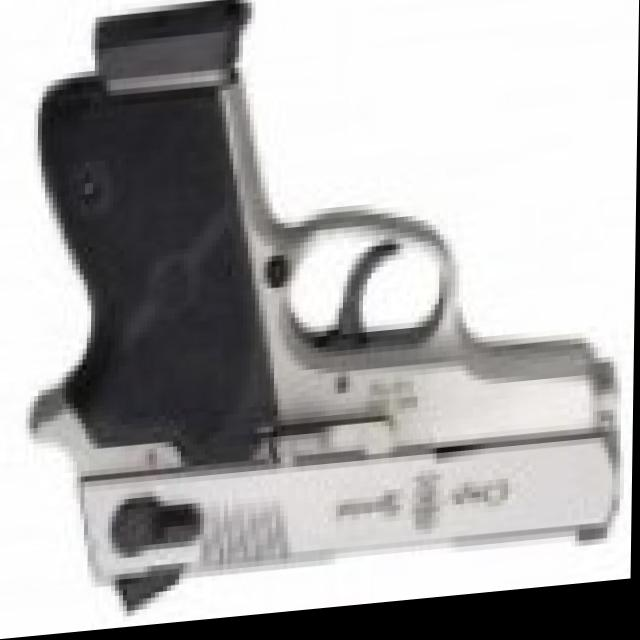handgun: (33, 0, 636, 615)
